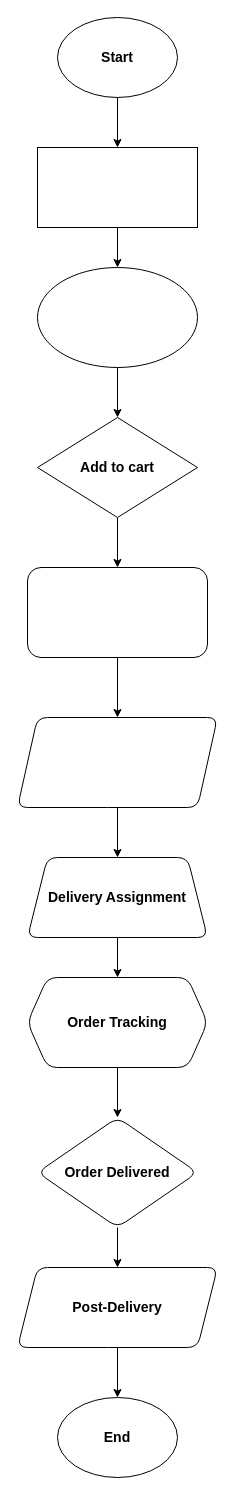
Image size: 235x1495. Some labels were removed from this diagram. The shapes that lost their labels are listed below. From the top down, each one's centre as x and y in pixels, then its label:
At (117,187): "User Onbording".
At (117,317): "Restaurant & Menu Browsing".
At (117,612): "Checkout process".
At (117,762): "Order processing".
